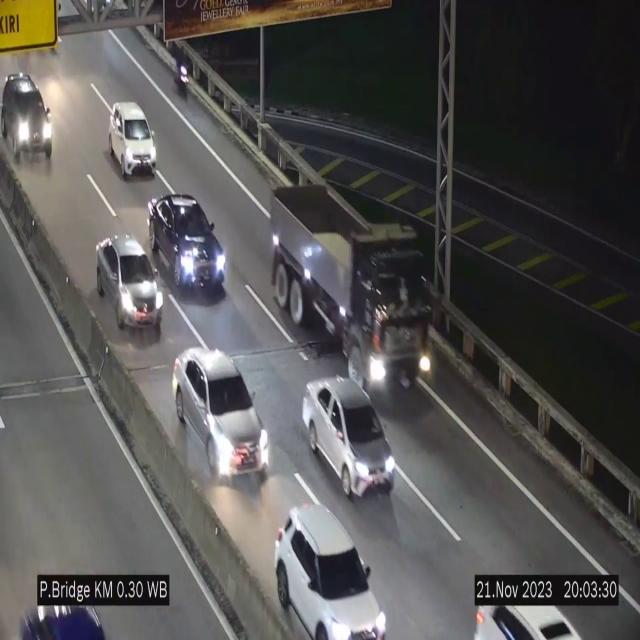Car: (276, 505, 386, 640), (172, 348, 270, 484), (302, 377, 396, 497), (81, 234, 167, 332), (148, 193, 227, 294), (0, 73, 56, 163), (109, 102, 157, 178)
Motorcycle: (174, 44, 190, 104)
Truck: (264, 182, 432, 398)
